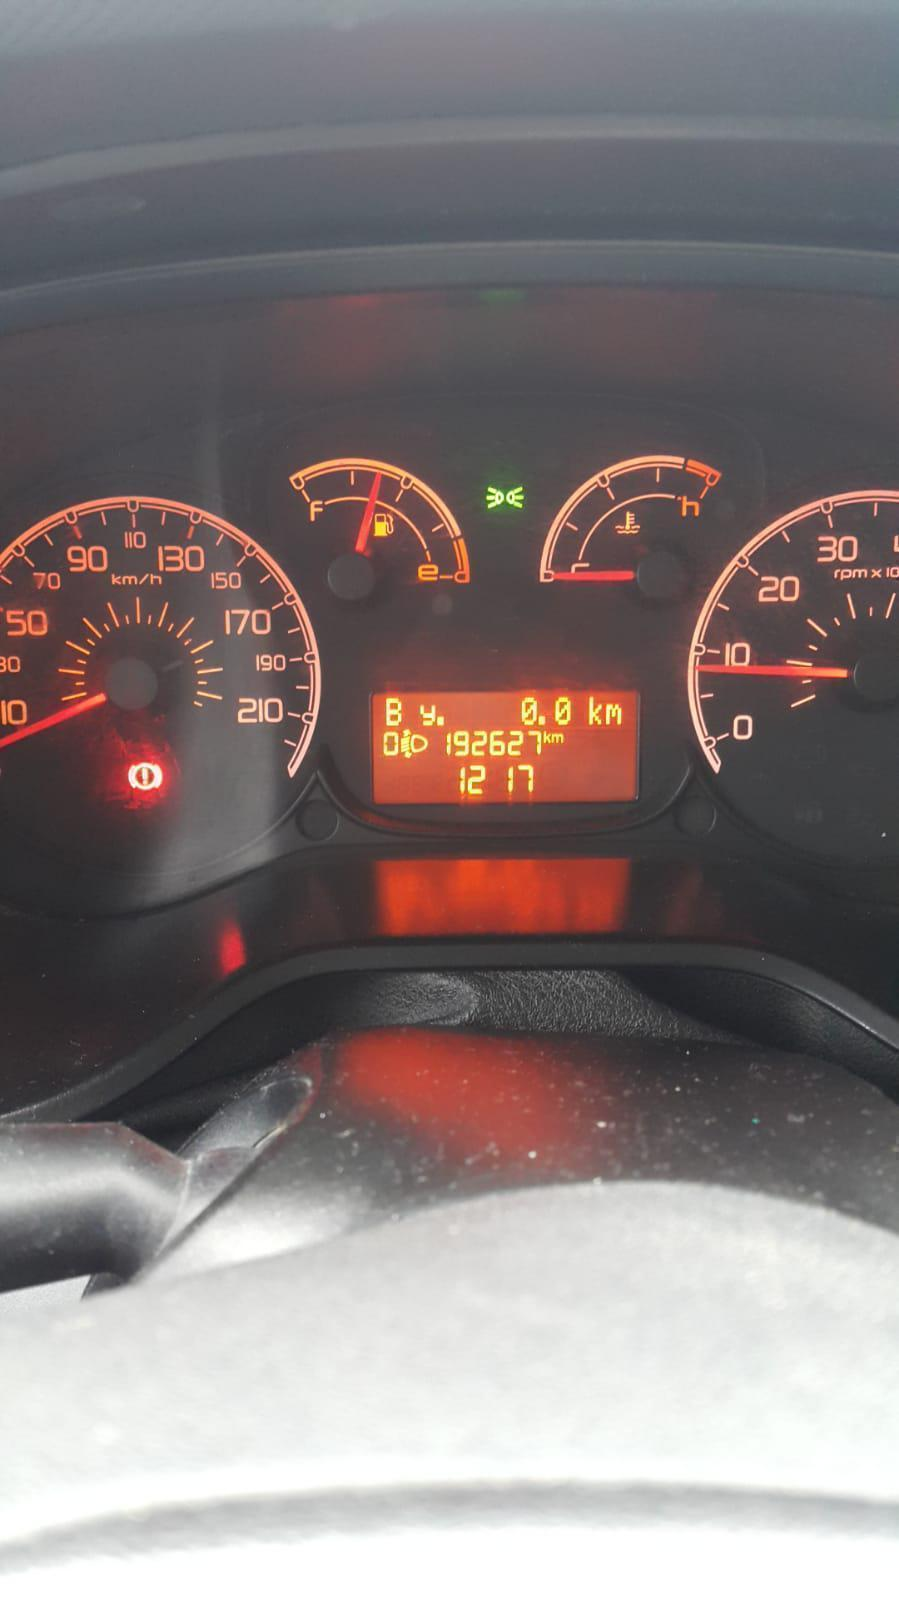,: (536, 712, 546, 725), (437, 713, 447, 725)
0: (554, 695, 572, 726), (521, 694, 536, 726), (382, 729, 398, 756)
1: (456, 762, 467, 797), (505, 763, 514, 798), (443, 729, 452, 759)
2: (467, 763, 486, 796), (507, 728, 524, 758), (471, 728, 487, 756)
6: (488, 728, 506, 757)
7: (517, 763, 533, 796), (527, 727, 542, 758)
9: (454, 728, 470, 756)
X: (384, 696, 402, 725), (587, 695, 603, 726), (605, 701, 622, 725), (419, 703, 436, 727), (552, 733, 565, 743), (543, 728, 551, 745)
odometer: (368, 684, 647, 806)
